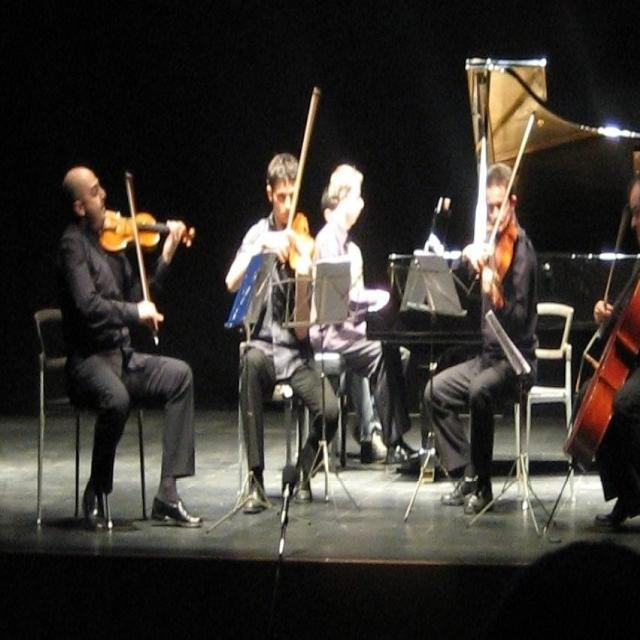cello: (561, 278, 640, 471)
violin: (92, 208, 197, 254), (484, 214, 518, 314), (286, 210, 316, 273)
